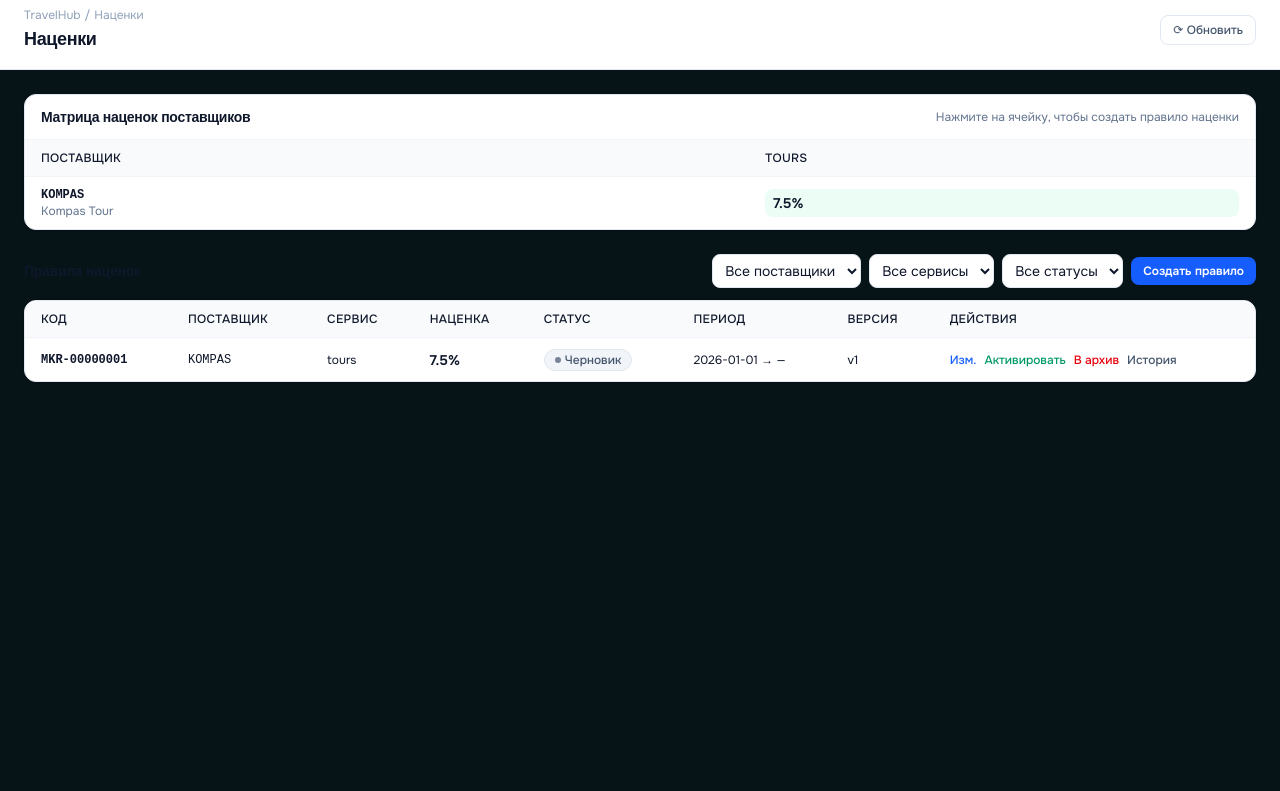
Test: MarkupAdminPage — Supplier × Service matrix + rules (§4.1/§4.2) › update с stale версии: серверный 409 показывается и список перечитывается (CAS)
Step 1. Click the button "Изм." → (963, 360), box left=950, top=352, right=976, bottom=368
(page scrolled)
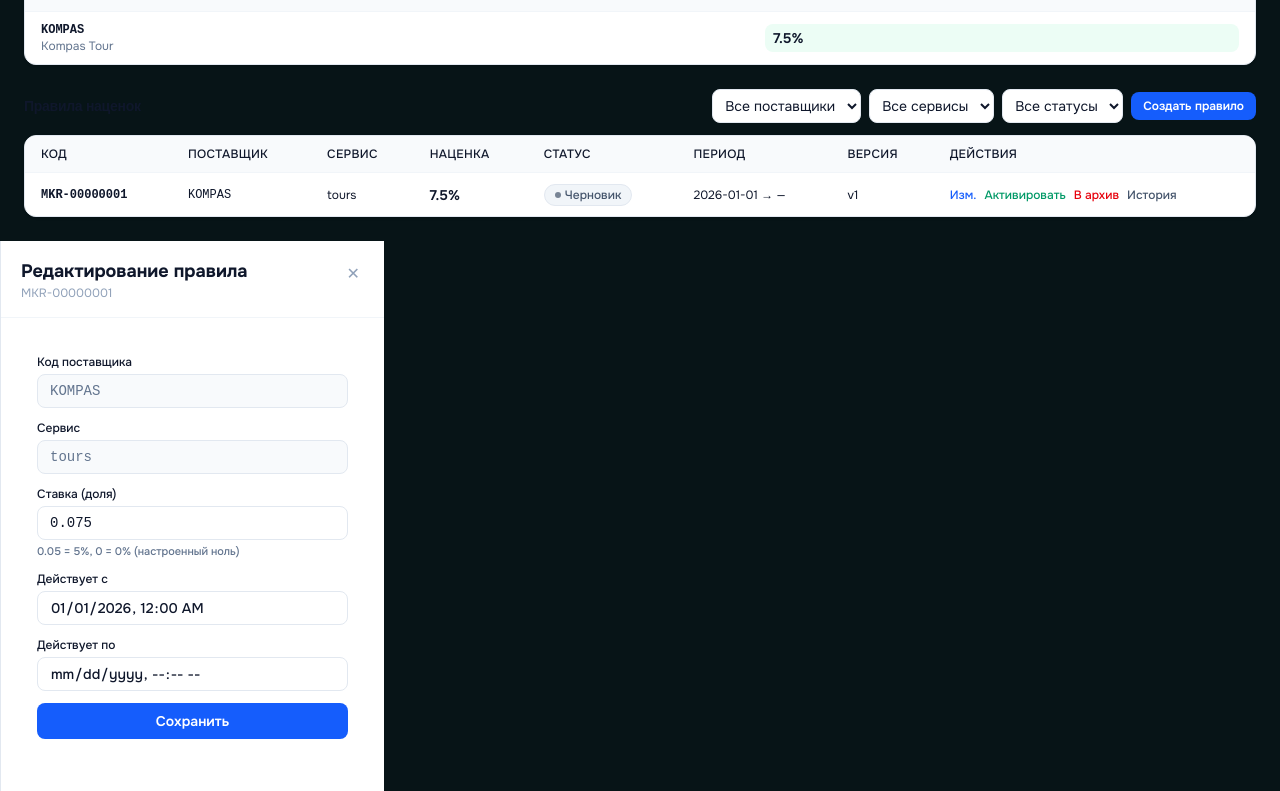
Now the text "Редактирование правила" is shown, box left=21, top=257, right=248, bottom=285
Step 2. Click the button "Сохранить" → (192, 721), box left=37, top=703, right=348, bottom=739
(page scrolled)
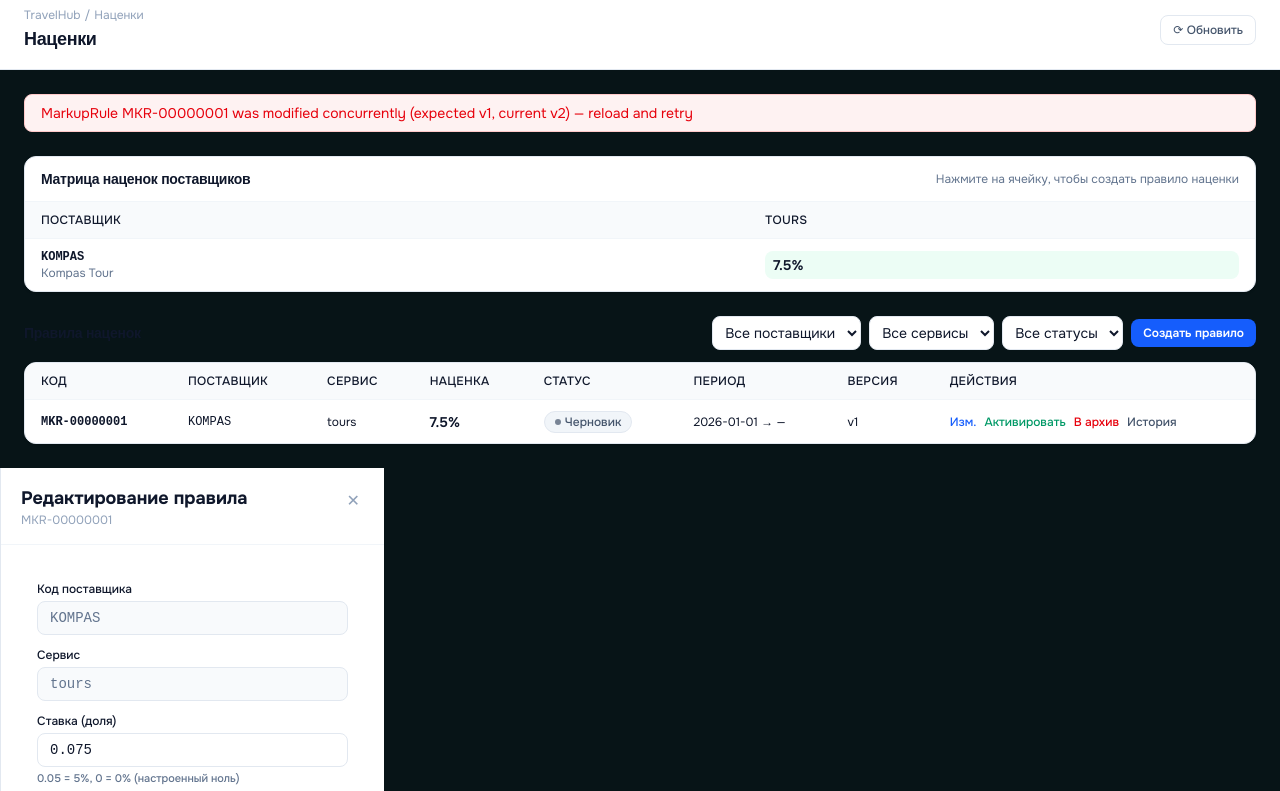
Now the text "was modified concurrently" is shown, box left=41, top=104, right=693, bottom=122
